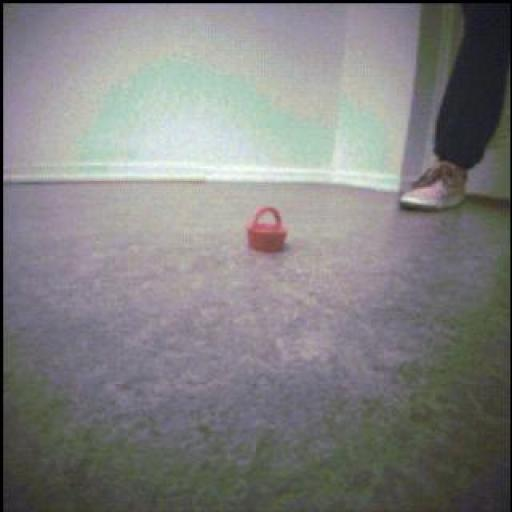Bucket: (248, 207, 288, 254)
